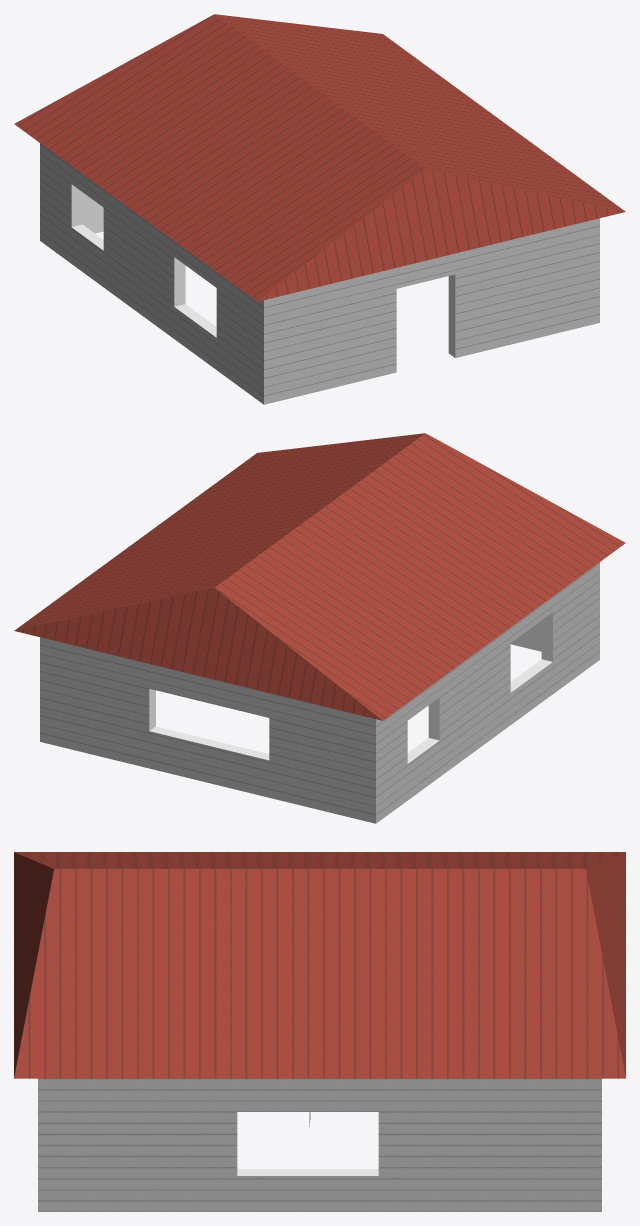
The model's file is SmallHouse.dae.
The picture shows the model from 3 angles, top to bottom: view 1: azimuth 30°, elevation 25°; view 2: azimuth 150°, elevation 25°; view 3: azimuth 270°, elevation 25°; orthographic projection. The views are drawn at different scales.
Visible parts, largest first — view 1: SketchUp (×5); view 2: SketchUp (×5); view 3: SketchUp (×3).
Boxes of the visible parts, x1,y1,x2,y2 form: SketchUp (×5): [14, 14, 625, 404]; SketchUp (×5): [14, 433, 625, 823]; SketchUp (×3): [14, 852, 625, 1211].
Bounding box in the file's own units: 415 × 474 × 205.
Materials: 9 (2 with a texture image).
